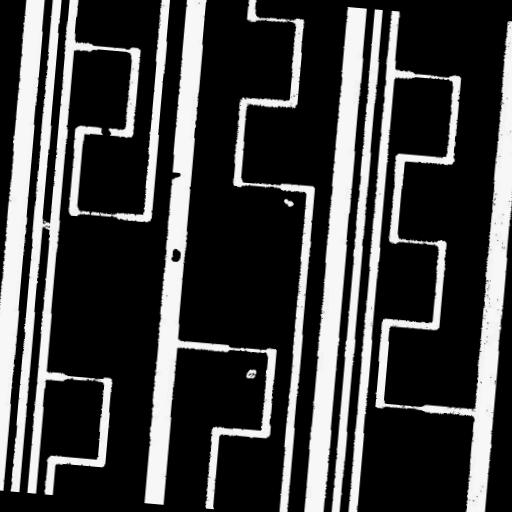copper: (163, 240, 189, 270)
open: (32, 212, 60, 238)
pin-hole: (237, 360, 264, 386), (275, 190, 302, 215)
short: (92, 110, 120, 145)
spur: (162, 164, 188, 188)
